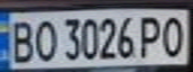0: (78, 14, 100, 61)
2: (96, 14, 121, 61)
3: (60, 15, 81, 62)
6: (115, 12, 139, 60)
B: (3, 17, 36, 64)
O: (157, 12, 190, 57), (30, 16, 57, 63)
P: (136, 12, 166, 59)
